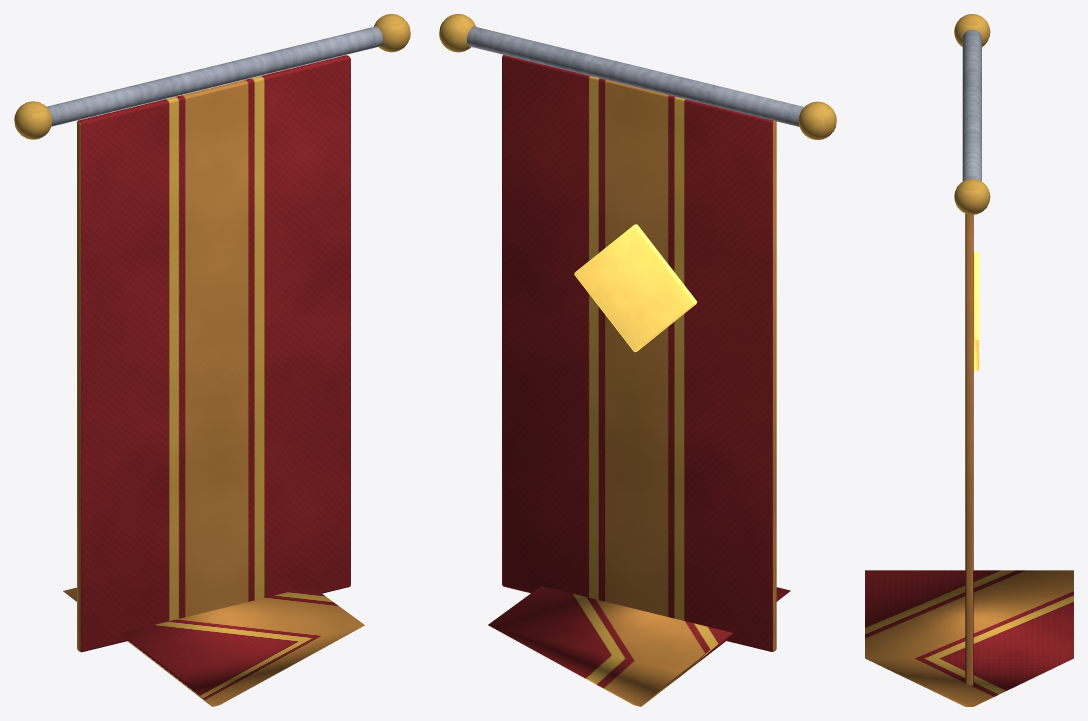
Rendered from wall_banner.glb.
3 renders of one model, left to right at view 1: azimuth 30°, elevation 25°; view 2: azimuth 150°, elevation 25°; view 3: azimuth 270°, elevation 25°, orthographic. The views are drawn at different scales.
Parts seen in each view (by area): view 1: BannerCloth, BannerTip, Crossbar, Finial, Finial.001; view 2: BannerCloth, BannerTip, GoldCrest, Crossbar, Finial, Finial.001; view 3: BannerTip, BannerCloth, Crossbar, Finial.001, GoldCrest, Finial.
Part boxes in pixels (x1,y1,x2,y2): BannerCloth: [77, 55, 350, 652]; BannerTip: [63, 586, 364, 706]; Crossbar: [46, 26, 382, 126]; Finial: [14, 101, 52, 139]; Finial.001: [373, 14, 410, 52]; BannerCloth: [502, 55, 776, 651]; BannerTip: [488, 586, 790, 706]; GoldCrest: [574, 224, 696, 351]; Crossbar: [467, 26, 804, 126]; Finial: [798, 101, 836, 139]; Finial.001: [439, 14, 476, 52]; BannerTip: [865, 570, 1073, 706]; BannerCloth: [965, 213, 973, 685]; Crossbar: [962, 29, 981, 181]; Finial.001: [954, 179, 990, 214]; GoldCrest: [973, 251, 979, 371]; Finial: [954, 14, 990, 46].
Size of the model in its own units: 1.53 by 2.41 by 0.7495.
4 materials, 4 textured.
